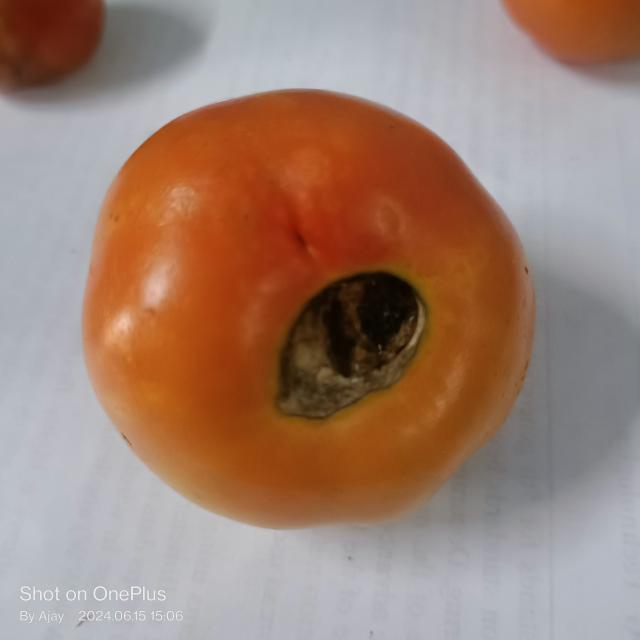fruitworm_bore: (268, 271, 426, 429)
